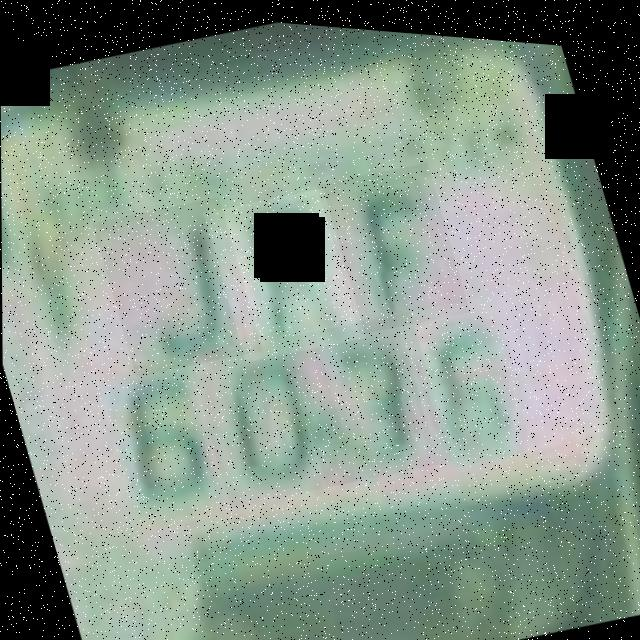0: (184, 310, 356, 511)
3: (283, 296, 453, 490)
6: (84, 334, 247, 537), (394, 276, 552, 478)
F: (316, 147, 470, 335)
J: (91, 185, 262, 382)
R: (202, 174, 365, 366)
